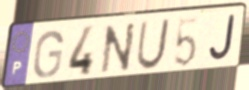4: (66, 23, 97, 78)
5: (172, 15, 200, 68)
G: (31, 28, 66, 80)
J: (207, 13, 237, 64)
N: (99, 20, 138, 76)
U: (134, 17, 172, 72)
